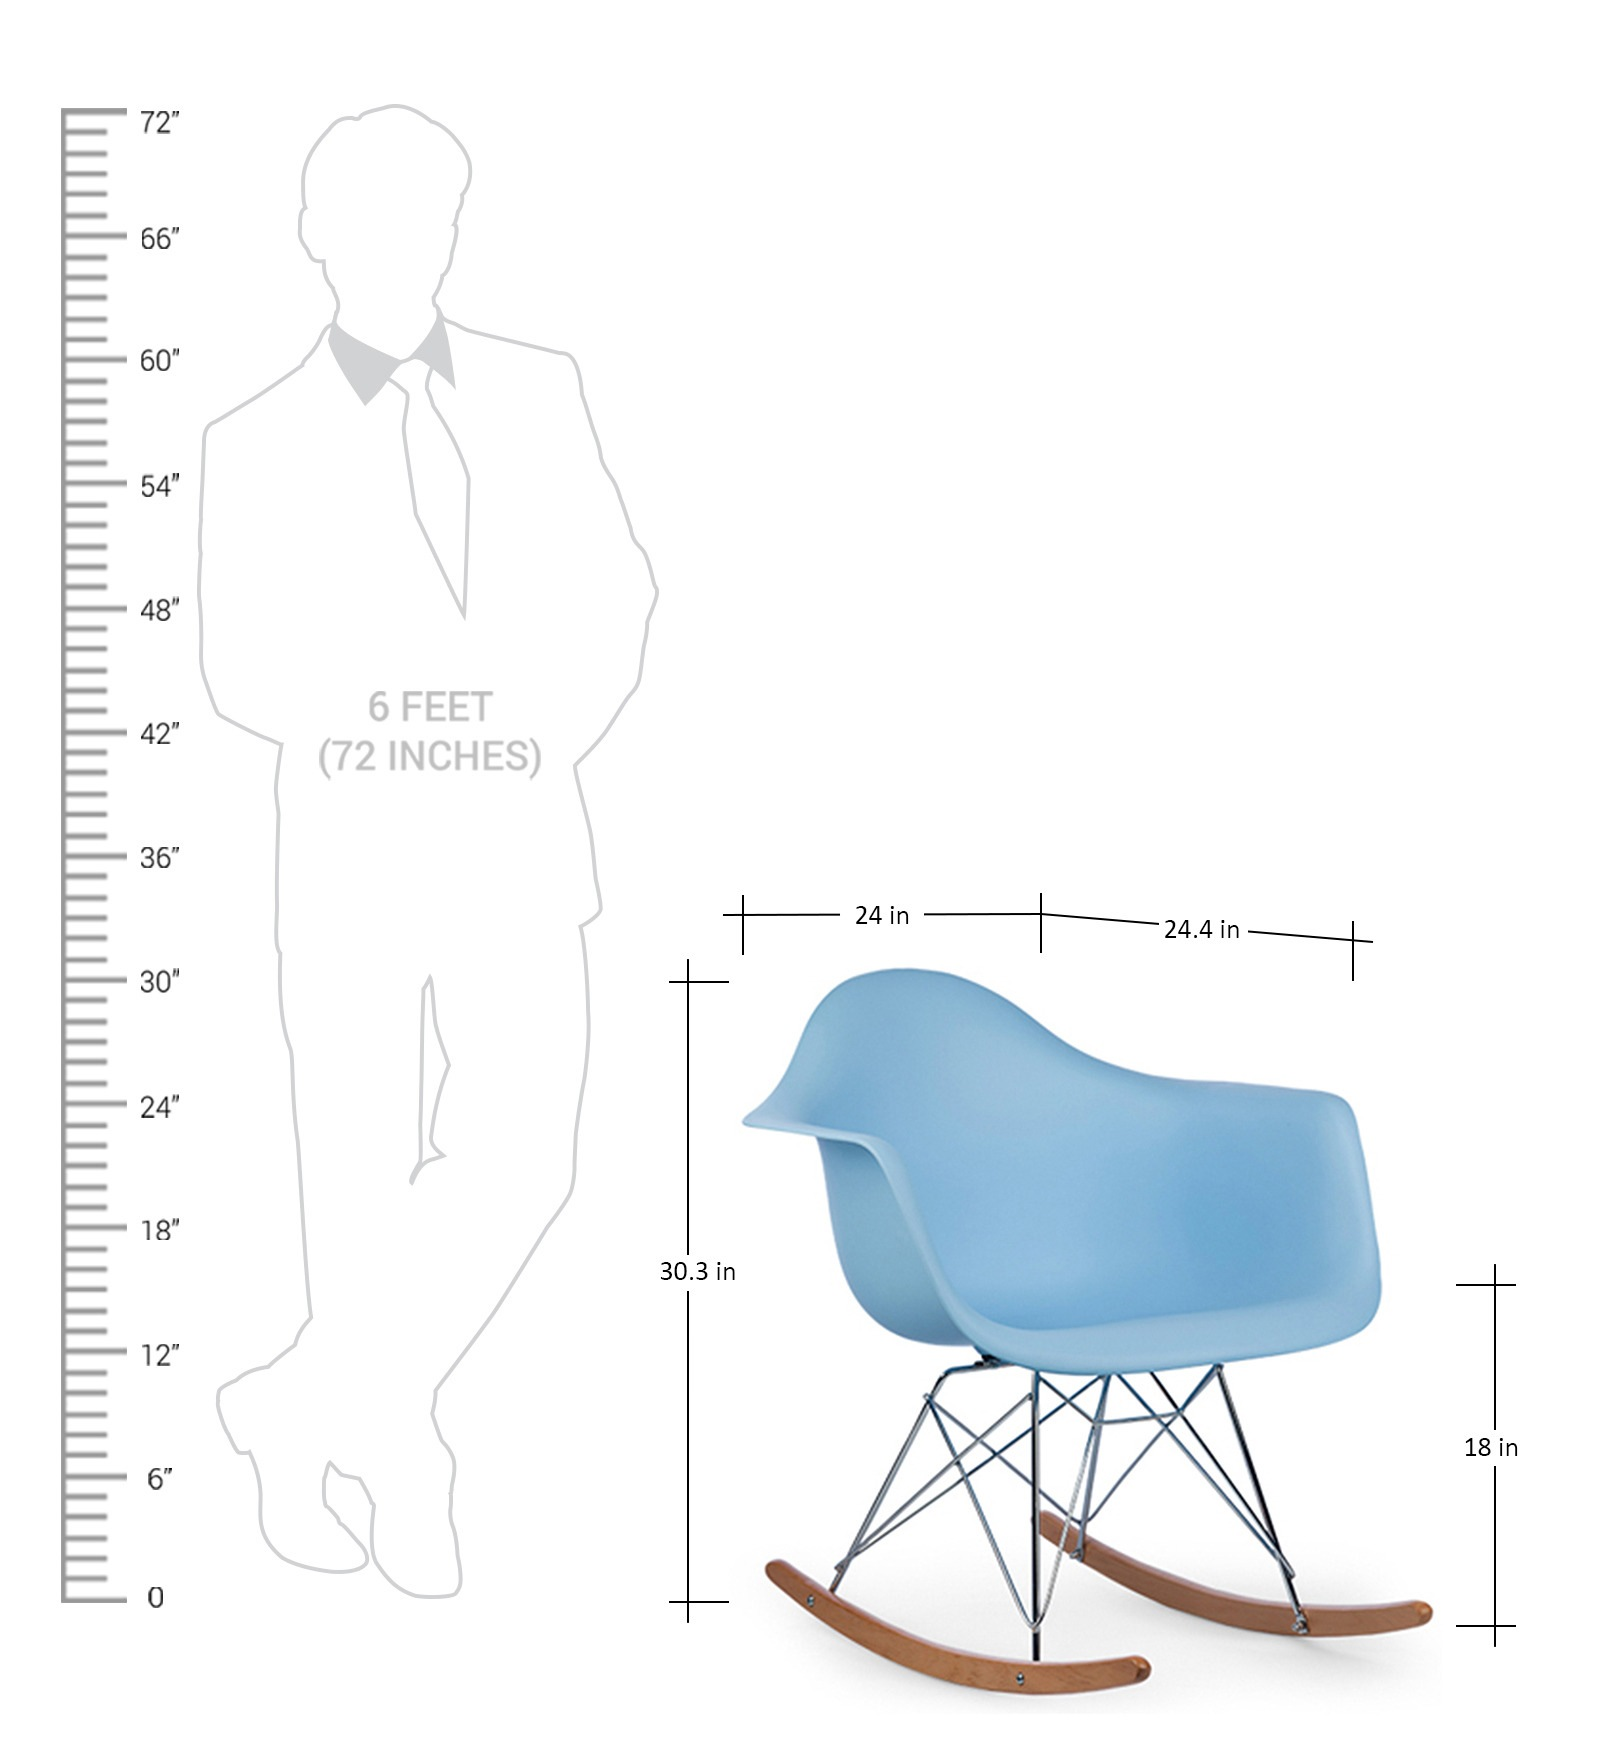Daytona Beach Club Rocking Chair in Robin Blue Colour by HomeHQ: (725, 937, 1473, 1734)
